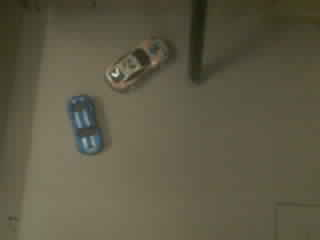Car: (106, 39, 167, 89), (68, 95, 103, 152)
